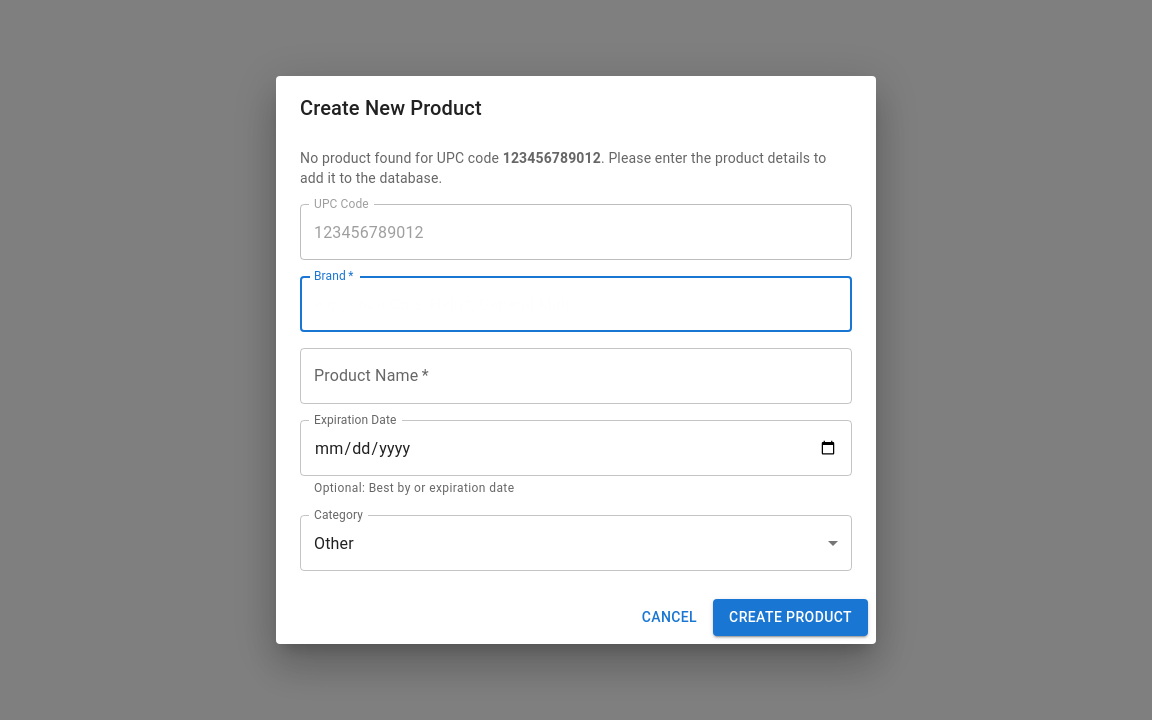
Scenario: CreateProductDialog › shows validation error when brand is empty
Type "Test Product" into the field labelled "Product Name *" at (576, 376), box x1=300 y1=348 x2=852 y2=404
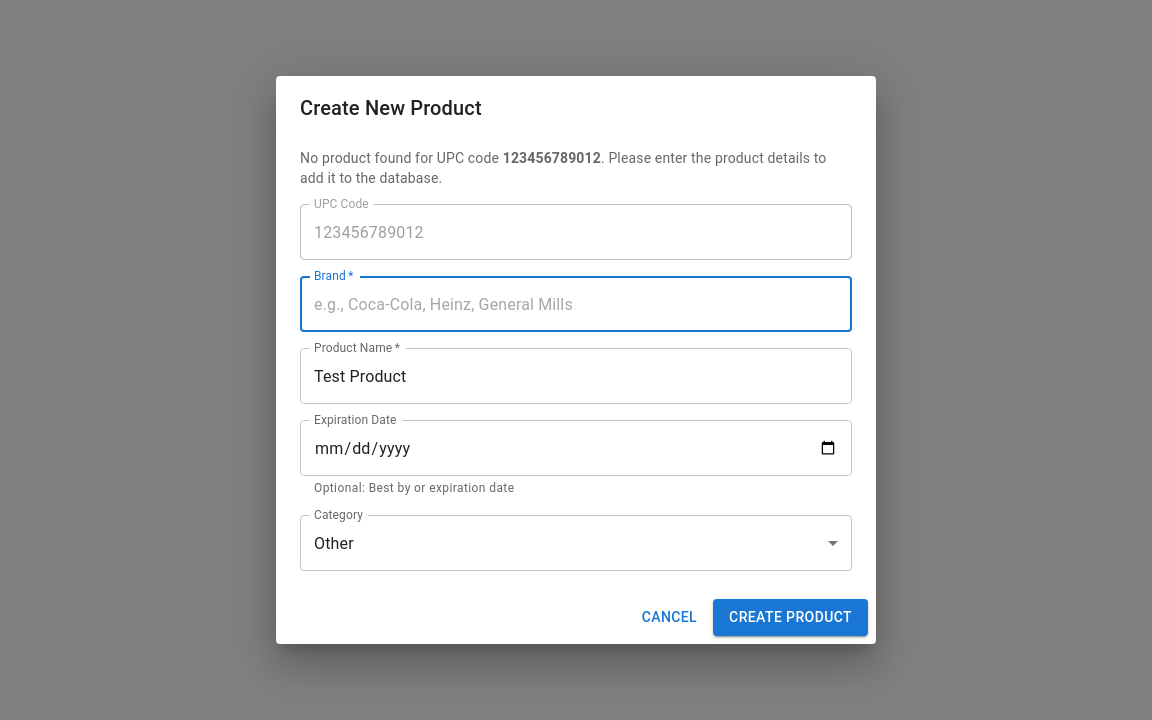
Click the button with test id "create-product-submit-button" at (791, 617), box x1=713 y1=599 x2=868 y2=636
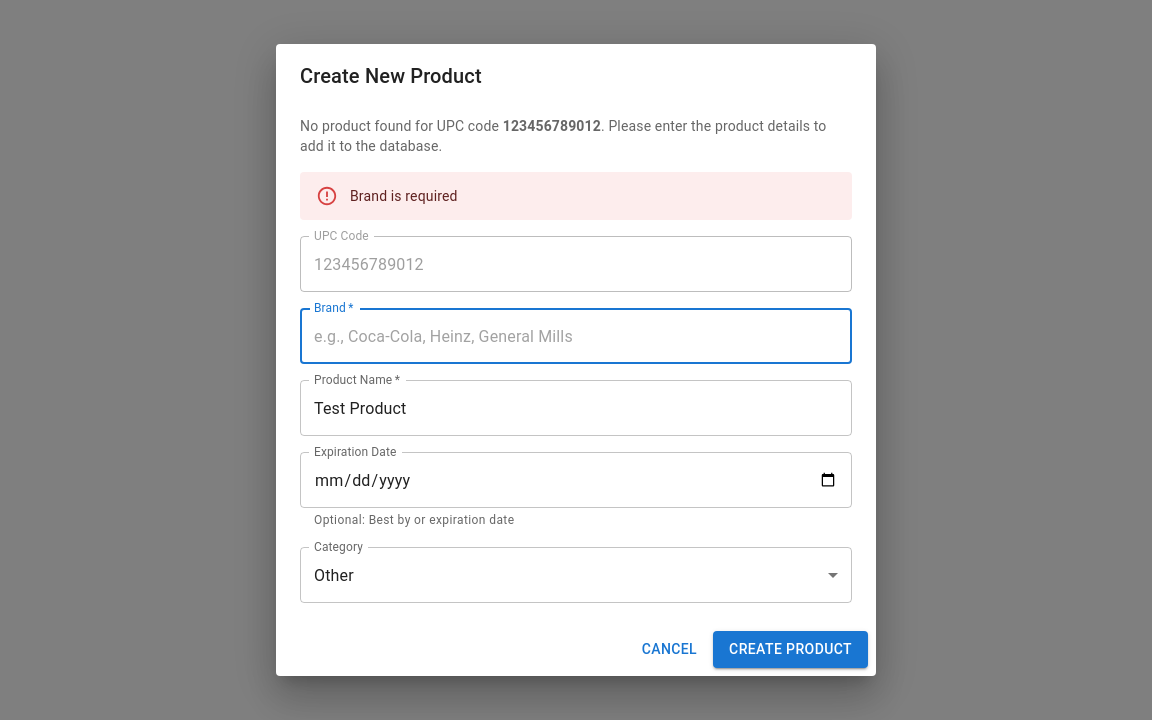
Now the text "Brand is required" is shown, box x1=350 y1=188 x2=458 y2=204
